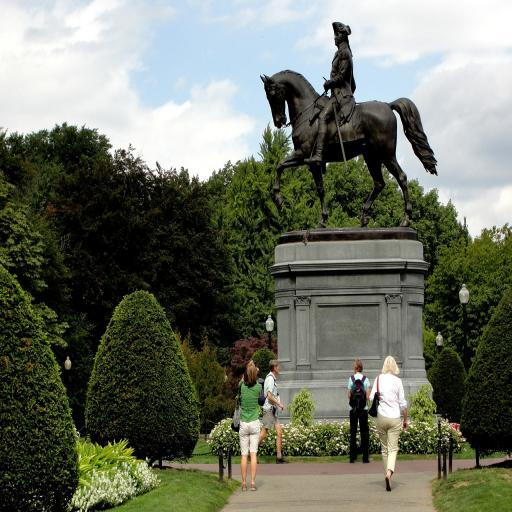Horse: (261, 68, 439, 230)
